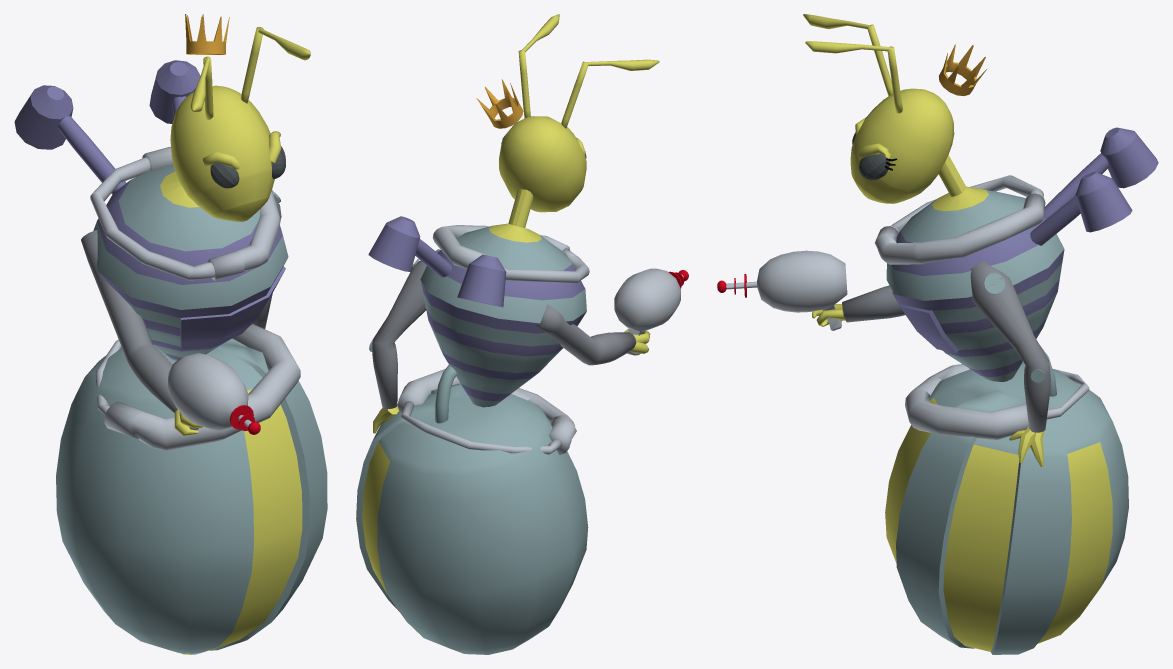
File: Boss.fbx
The picture shows the model from 3 angles, left to right: view 1: azimuth 30°, elevation 25°; view 2: azimuth 150°, elevation 25°; view 3: azimuth 270°, elevation 25°; orthographic projection. The views are drawn at different scales.
Parts seen in each view (by area): view 1: Cylinder.020, Cylinder.001, Cylinder.005, Cylinder.019, Cylinder.014, Cylinder.023, Cylinder.007, Cylinder.003, Cylinder.004, Cylinder.006, Cylinder.021, Cylinder.024 (+2 smaller); view 2: Cylinder.020, Cylinder.001, Cylinder.005, Cylinder.019, Cylinder.023, Cylinder.002, Cylinder.014, Cylinder.003, Cylinder.006, Cylinder.007, Cylinder.022, Cylinder.024 (+2 smaller); view 3: Cylinder.020, Cylinder.001, Cylinder.005, Cylinder.014, Cylinder.023, Cylinder.019, Cylinder.002, Cylinder.006, Cylinder.007, Cylinder.003, Cylinder.024, Cylinder.004 (+4 smaller).
Boxes of the visible parts, x1,y1,x2,y2 form: Cylinder.020: (56,338,327,654); Cylinder.001: (93,164,288,360); Cylinder.005: (170,85,274,221); Cylinder.019: (95,324,300,450); Cylinder.014: (90,146,280,280); Cylinder.023: (167,353,260,434); Cylinder.007: (14,85,126,194); Cylinder.003: (81,230,177,412); Cylinder.004: (180,266,285,349); Cylinder.006: (149,60,200,123); Cylinder.021: (240,27,310,103); Cylinder.024: (185,14,229,54); Cylinder.020: (356,383,588,654); Cylinder.001: (420,188,586,407); Cylinder.005: (499,116,586,212); Cylinder.019: (397,369,576,454); Cylinder.023: (614,268,688,355); Cylinder.002: (372,249,439,408); Cylinder.014: (432,225,589,283); Cylinder.003: (536,304,636,365); Cylinder.006: (368,216,452,277); Cylinder.007: (457,254,506,307); Cylinder.022: (561,59,659,128); Cylinder.024: (476,79,523,128); Cylinder.020: (885,362,1128,654); Cylinder.001: (886,155,1064,381); Cylinder.005: (850,88,954,203); Cylinder.014: (875,175,1045,264); Cylinder.023: (717,250,847,330); Cylinder.019: (905,364,1089,439); Cylinder.002: (970,261,1050,432); Cylinder.006: (1030,171,1132,245); Cylinder.007: (1043,127,1158,217); Cylinder.003: (842,285,905,322); Cylinder.024: (939,44,986,95); Cylinder.004: (892,292,958,353).
Bounding box in the file's own units: 405 × 1070 × 700.
